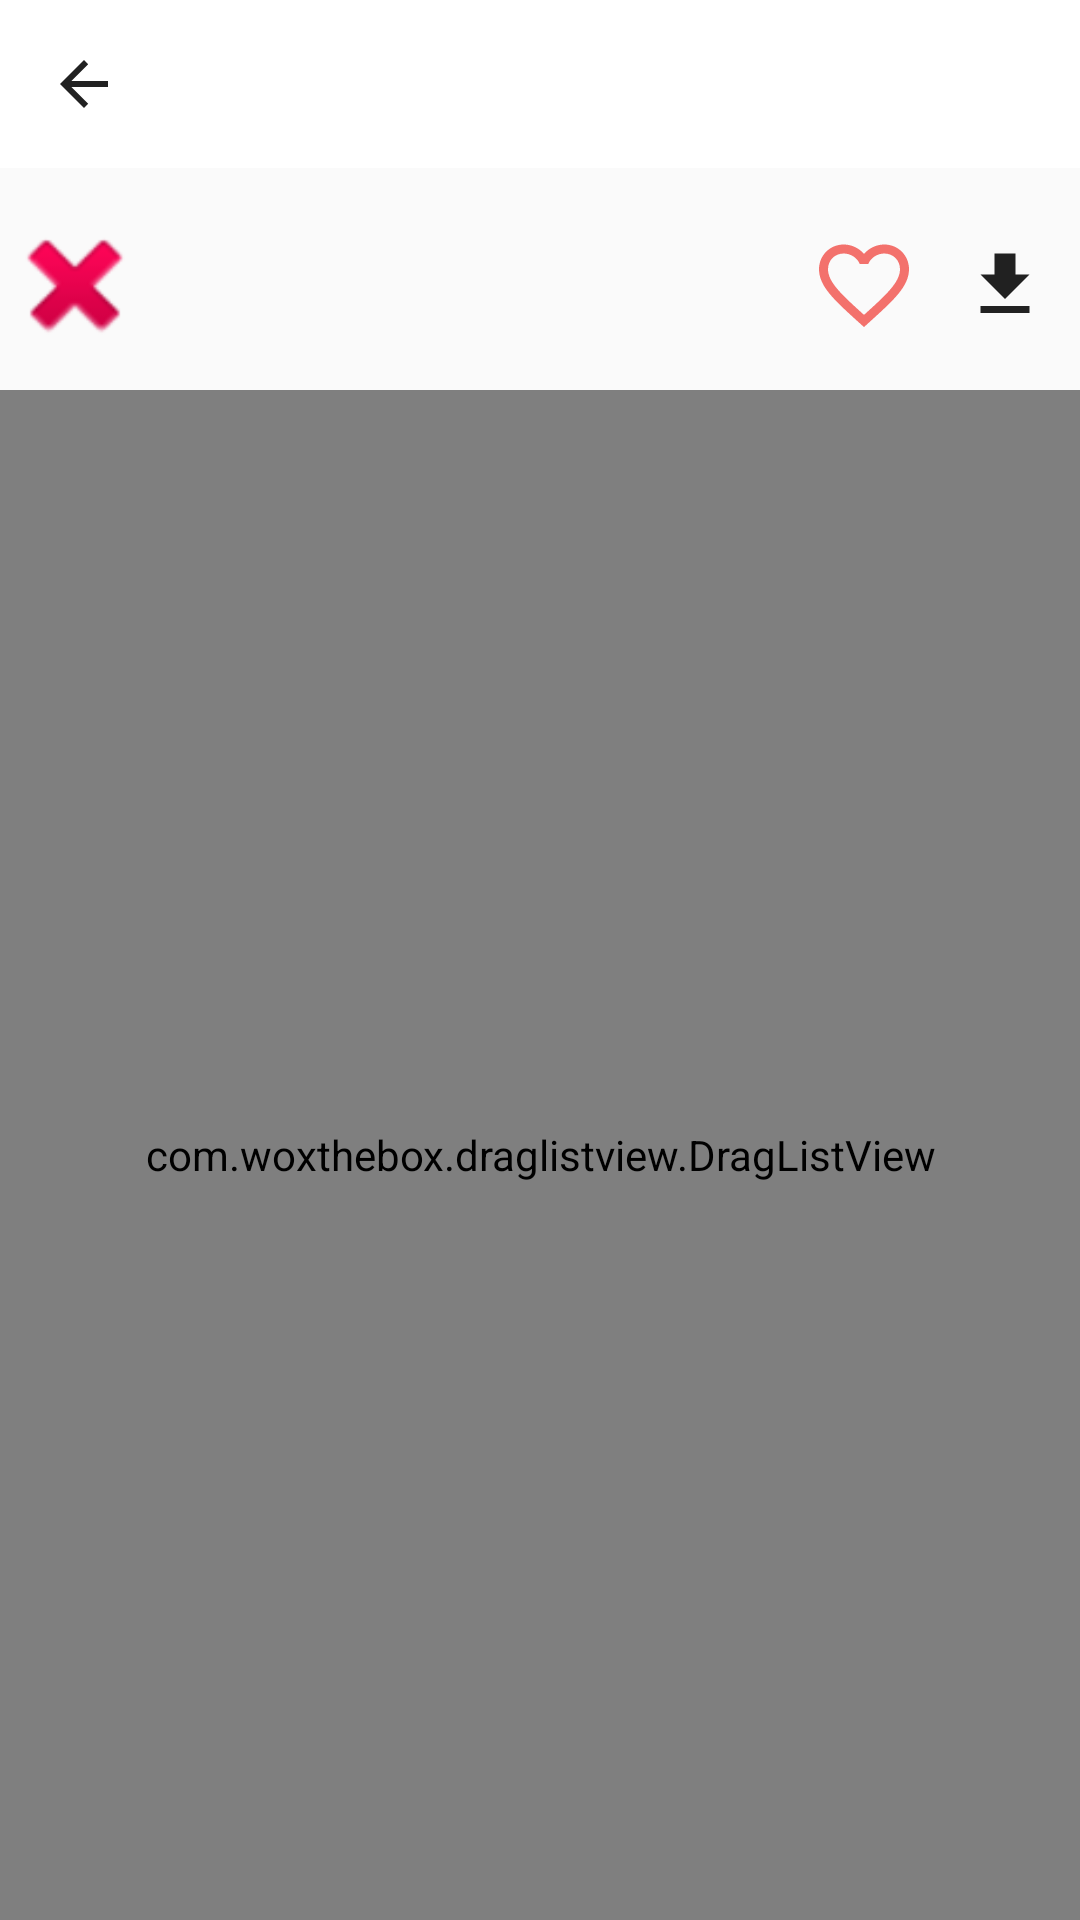

Screen size 1080*1920. Icon name, then its center in pixels as point (x, y):
delete: point (75, 286)
file download: point (1005, 283)
